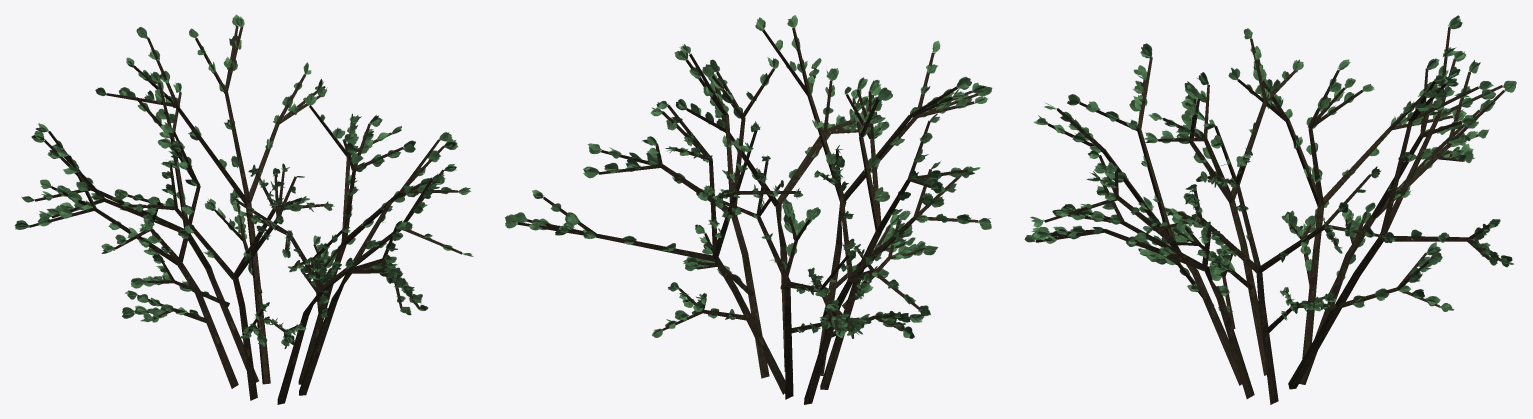
Rendered from alder_thicket_v01_LOD1.glb.
3 renders of one model, left to right at view 1: azimuth 30°, elevation 25°; view 2: azimuth 150°, elevation 25°; view 3: azimuth 270°, elevation 25°, orthographic. The views are drawn at different scales.
Parts seen in each view (by area): view 1: alder_thicket_v01_LOD1; view 2: alder_thicket_v01_LOD1; view 3: alder_thicket_v01_LOD1.
Boxes of the visible parts, <box> form: alder_thicket_v01_LOD1: <box>14,14,473,404</box>; alder_thicket_v01_LOD1: <box>505,15,992,404</box>; alder_thicket_v01_LOD1: <box>1024,15,1516,404</box>.
Size of the model in its own units: 5.16 by 4.45 by 5.73.
2 materials, 2 textured.
